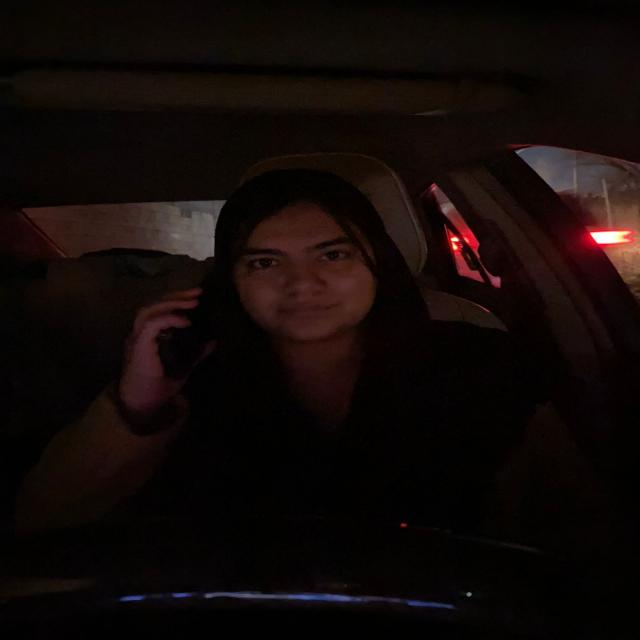mobile: (156, 258, 223, 386)
person: (237, 182, 379, 341)
